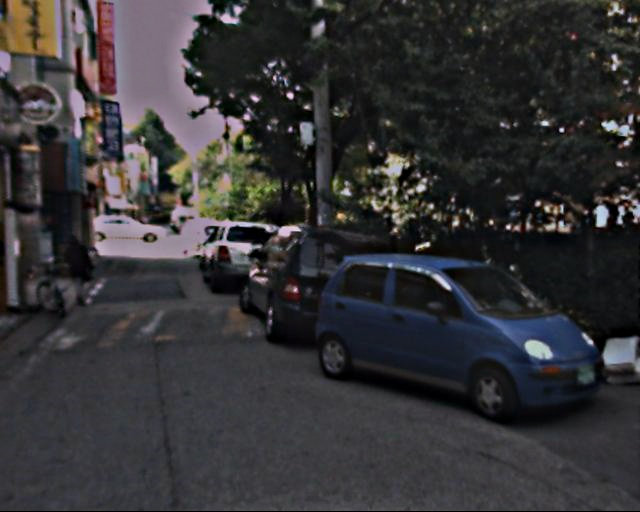person: (58, 227, 94, 308)
